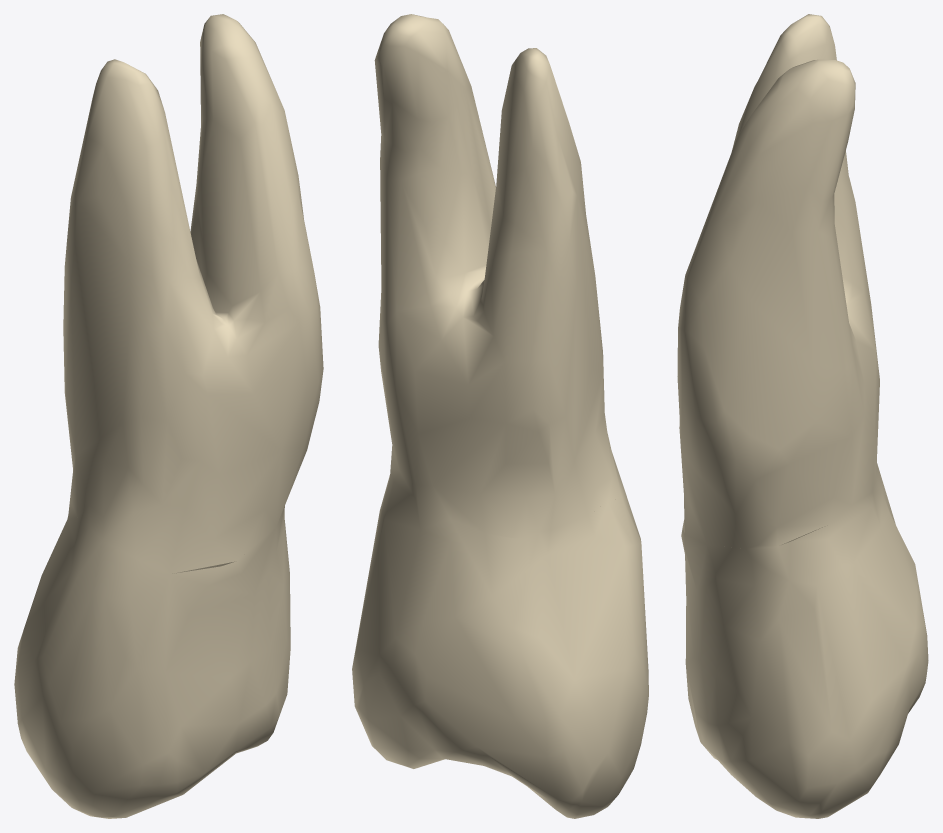
The model's file is esqueleto-upper-second-premolar-r.glb.
The picture shows the model from 3 angles, left to right: view 1: azimuth 30°, elevation 25°; view 2: azimuth 150°, elevation 25°; view 3: azimuth 270°, elevation 25°; orthographic projection. The views are drawn at different scales.
Visible parts, largest first — view 1: Upper second premolar.r; view 2: Upper second premolar.r; view 3: Upper second premolar.r.
Part boxes in pixels (x1,y1,x2,y2): Upper second premolar.r: (14, 14, 323, 818); Upper second premolar.r: (352, 14, 648, 818); Upper second premolar.r: (677, 14, 928, 818).
Bounding box in the file's own units: 0.00909 × 0.0253 × 0.00743.
